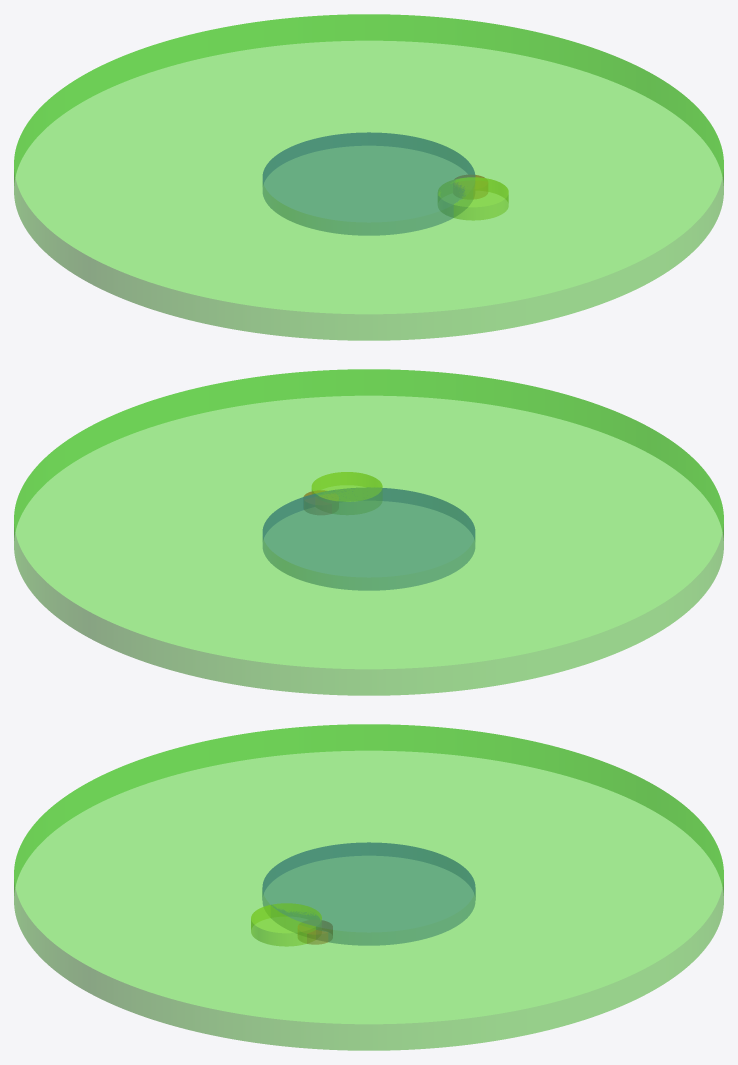
Rendered from YXE_Airspace_AR_BlenderGIS_Test1.glb.
The picture shows the model from 3 angles, top to bottom: view 1: azimuth 30°, elevation 25°; view 2: azimuth 150°, elevation 25°; view 3: azimuth 270°, elevation 25°; orthographic projection.
Visible parts, largest first — view 1: YXE_10NM_ClassD_Buffer, YXE_3NM_Buffer, Jim_Pattison_1NM_Buffer; view 2: YXE_10NM_ClassD_Buffer, YXE_3NM_Buffer, Jim_Pattison_1NM_Buffer; view 3: YXE_10NM_ClassD_Buffer, YXE_3NM_Buffer, Jim_Pattison_1NM_Buffer.
Boxes of the visible parts, box(x1,y1,x2,y2) form: YXE_10NM_ClassD_Buffer: box(14, 14, 723, 340); YXE_3NM_Buffer: box(263, 132, 474, 235); Jim_Pattison_1NM_Buffer: box(438, 177, 508, 220); YXE_10NM_ClassD_Buffer: box(14, 369, 723, 695); YXE_3NM_Buffer: box(263, 488, 474, 590); Jim_Pattison_1NM_Buffer: box(312, 472, 382, 501); YXE_10NM_ClassD_Buffer: box(14, 724, 723, 1050); YXE_3NM_Buffer: box(262, 842, 475, 945); Jim_Pattison_1NM_Buffer: box(251, 903, 321, 946).
Size of the model in its own units: 37040 by 1524 by 37040.
